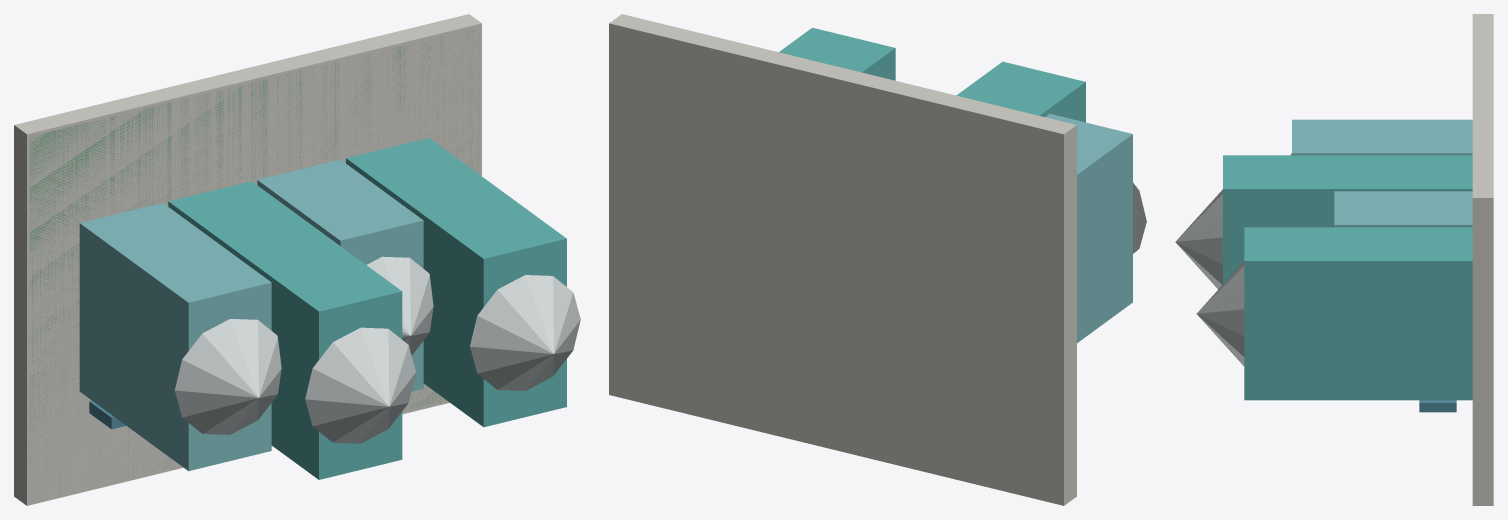
Rendered from music_center.glb.
The picture shows the model from 3 angles, left to right: view 1: azimuth 30°, elevation 25°; view 2: azimuth 150°, elevation 25°; view 3: azimuth 270°, elevation 25°; orthographic projection. The views are drawn at different scales.
Visible parts, largest first — view 1: g0, g2, g11, g5, g1, g8, g6, g12, g3, g9; view 2: g0, g2, g5, g11, g3; view 3: g11, g5, g0, g2, g8, g12, g6, g13.
Boxes of the visible parts, box(x1,y1,x2,y2) form: g0: box(14, 14, 481, 505); g2: box(79, 203, 271, 471); g11: box(346, 138, 566, 427); g5: box(168, 181, 402, 479); g1: box(29, 27, 478, 500); g8: box(257, 159, 423, 391); g6: box(305, 327, 415, 443); g12: box(470, 275, 580, 390); g3: box(174, 319, 281, 434); g9: box(366, 256, 433, 355); g0: box(609, 14, 1076, 505); g2: box(1045, 114, 1132, 342); g5: box(956, 61, 1085, 122); g11: box(779, 27, 895, 80); g3: box(1133, 183, 1146, 253); g11: box(1244, 227, 1472, 400); g5: box(1223, 155, 1472, 283); g0: box(1472, 14, 1493, 505); g2: box(1292, 119, 1472, 155); g8: box(1334, 191, 1472, 227); g12: box(1196, 261, 1244, 366); g6: box(1175, 189, 1222, 289); g13: box(1419, 400, 1456, 412).
Size of the model in its own units: 82 by 64 by 60.
